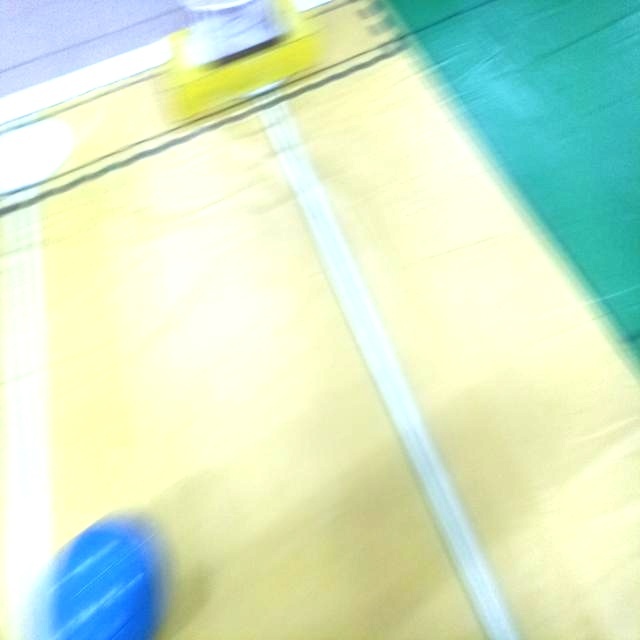blue_ball: (44, 500, 162, 640)
